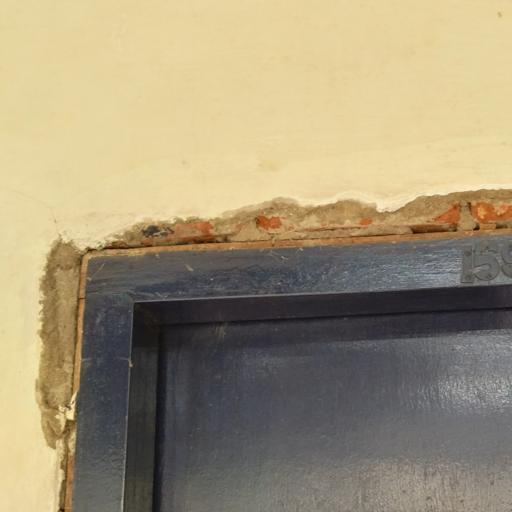spalling: (43, 196, 512, 237), (29, 218, 82, 512)
